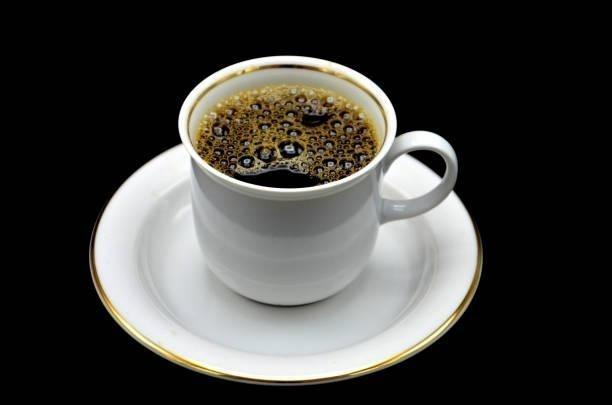cup-handle: (177, 53, 459, 309)
